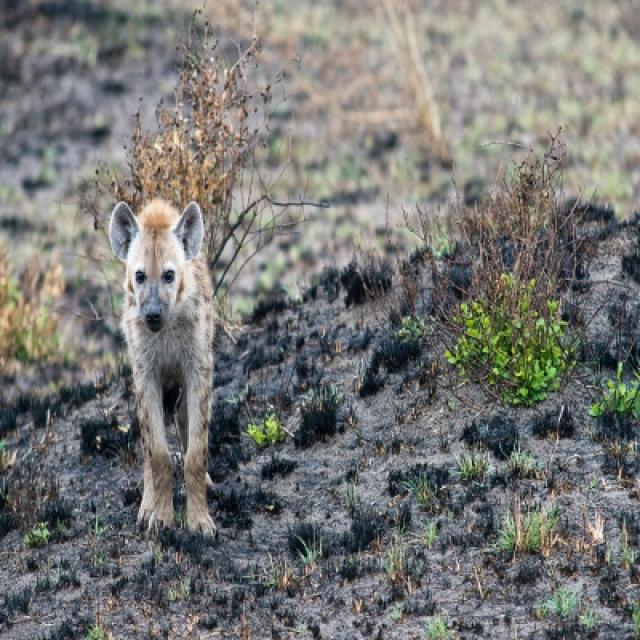hyena: (109, 198, 213, 533)
